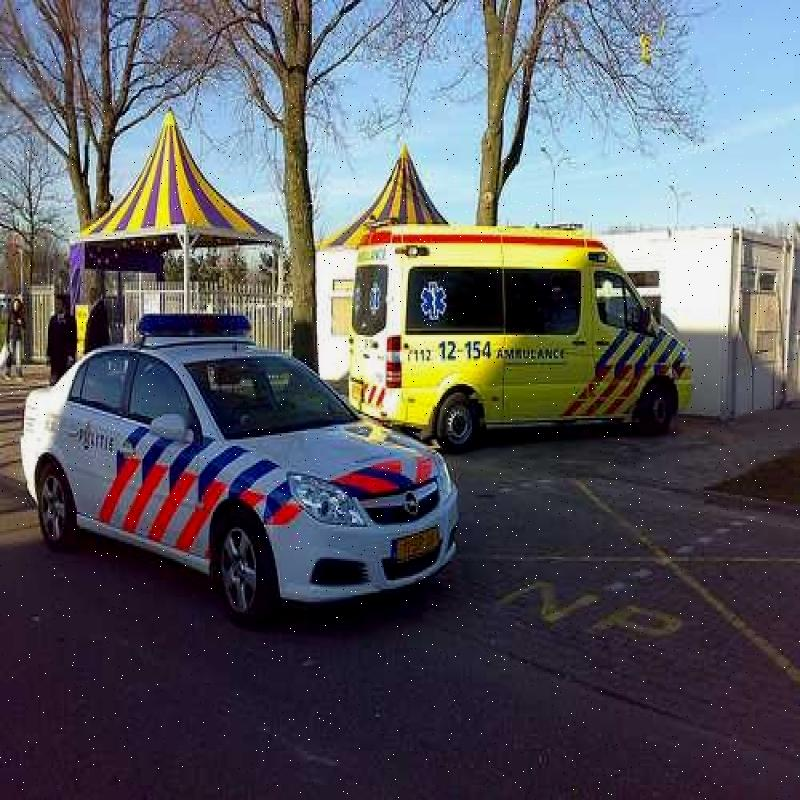AmbulanceSiren: (143, 290, 249, 348)
